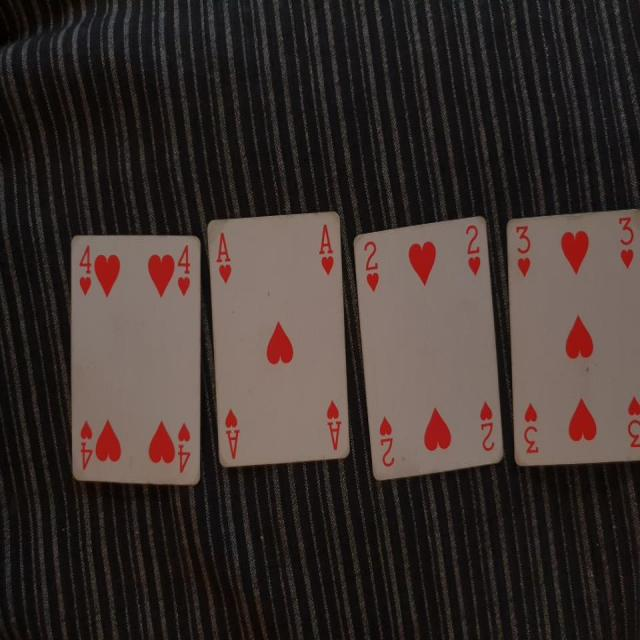2 Hearts: (349, 212, 502, 490)
3 Hearts: (508, 188, 640, 479)
4 Hearts: (69, 228, 210, 492)
A Hearts: (206, 205, 354, 464)
